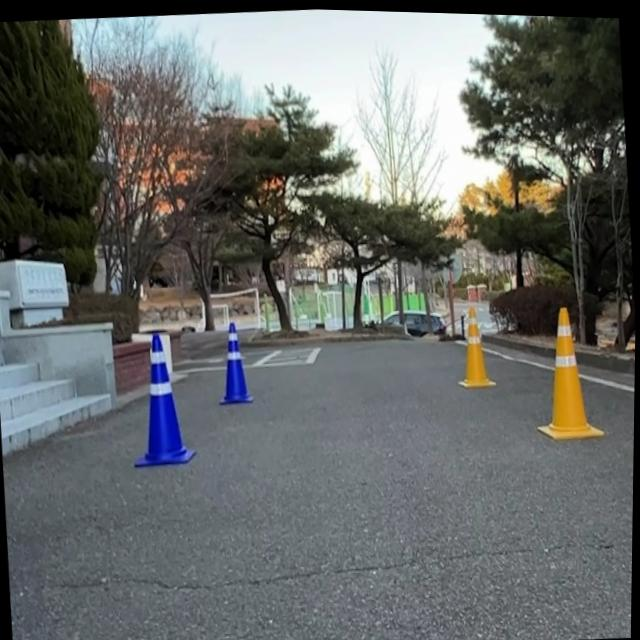b_rub: (135, 332, 196, 467), (220, 321, 255, 401)
y_rub: (539, 304, 606, 436), (458, 303, 497, 385)
